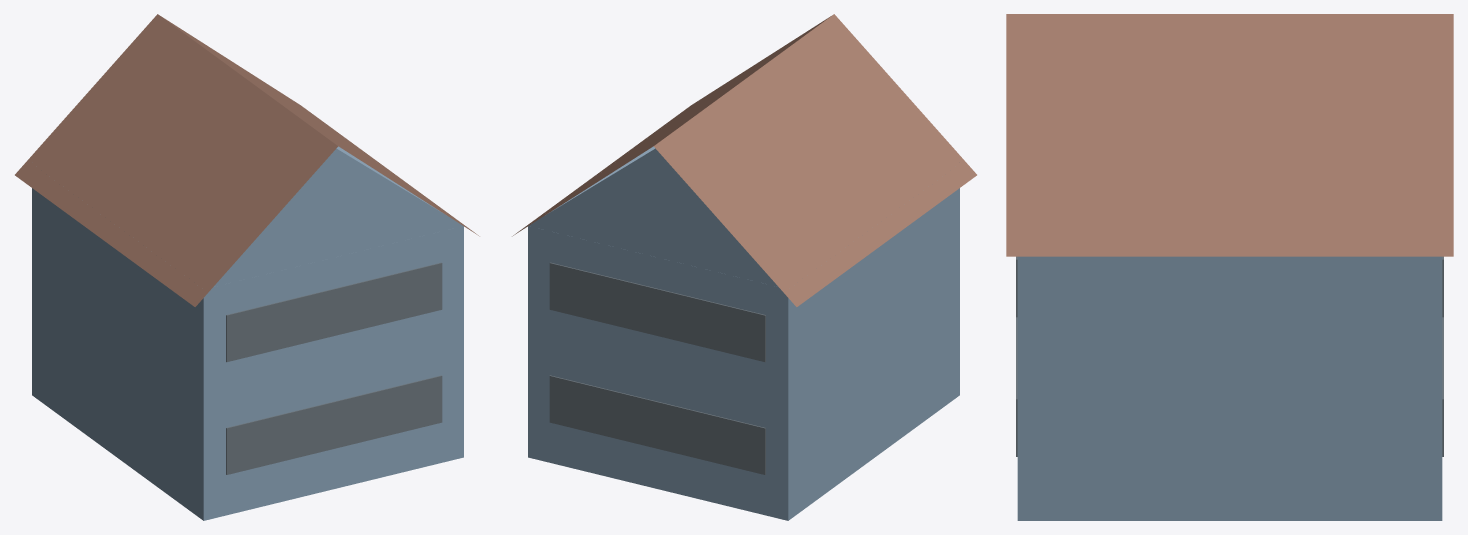
File: cove-house-blue.coast-v1.lod2.glb
3 views of the same model, side by side, from view 1: azimuth 30°, elevation 25°; view 2: azimuth 150°, elevation 25°; view 3: azimuth 270°, elevation 25° (orthographic). The views are drawn at different scales.
Visible parts, largest first — view 1: cove-house-blue; view 2: cove-house-blue; view 3: cove-house-blue.
Part boxes in pixels (left/top/right/bottom): cove-house-blue: left=15, top=14, right=479, bottom=520; cove-house-blue: left=512, top=14, right=976, bottom=520; cove-house-blue: left=1006, top=14, right=1453, bottom=520.
Bounding box in the file's own units: 7.7 × 8.9 × 8.42.
